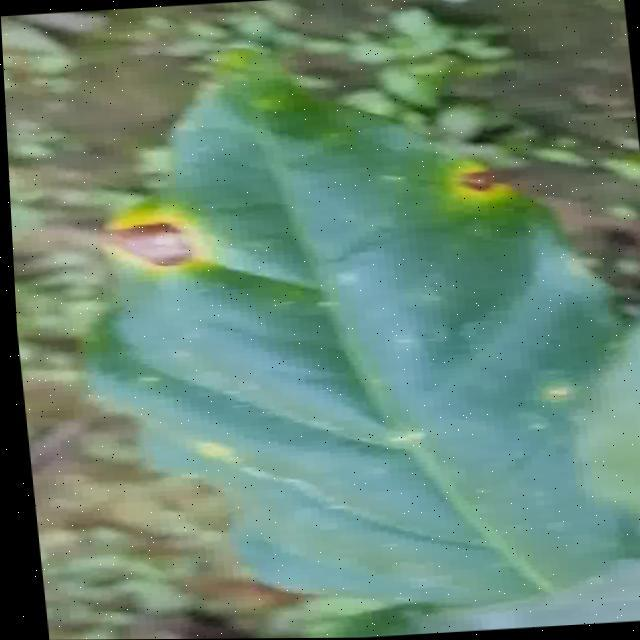leaves: (0, 9, 640, 640)
